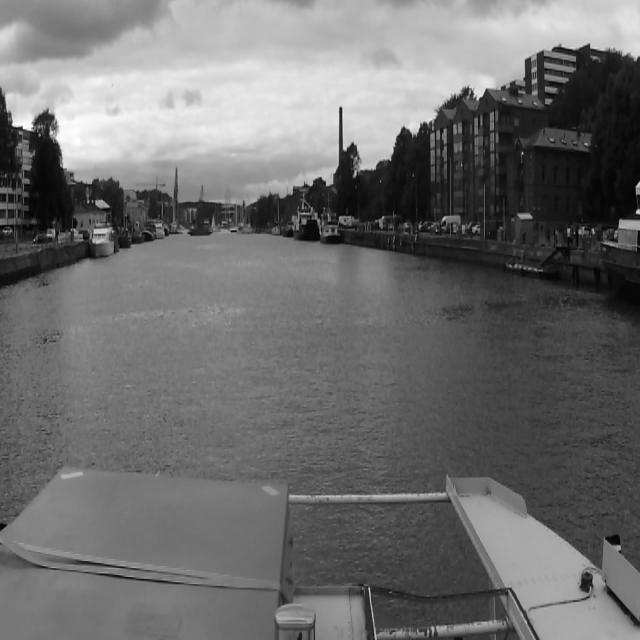ship: (292, 188, 320, 242), (91, 221, 113, 259), (320, 207, 340, 245), (187, 225, 215, 235)
